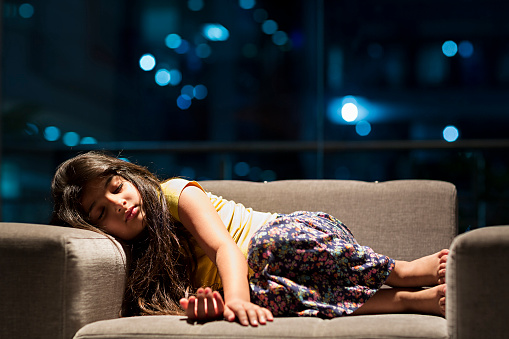deitado: (58, 144, 341, 336)
